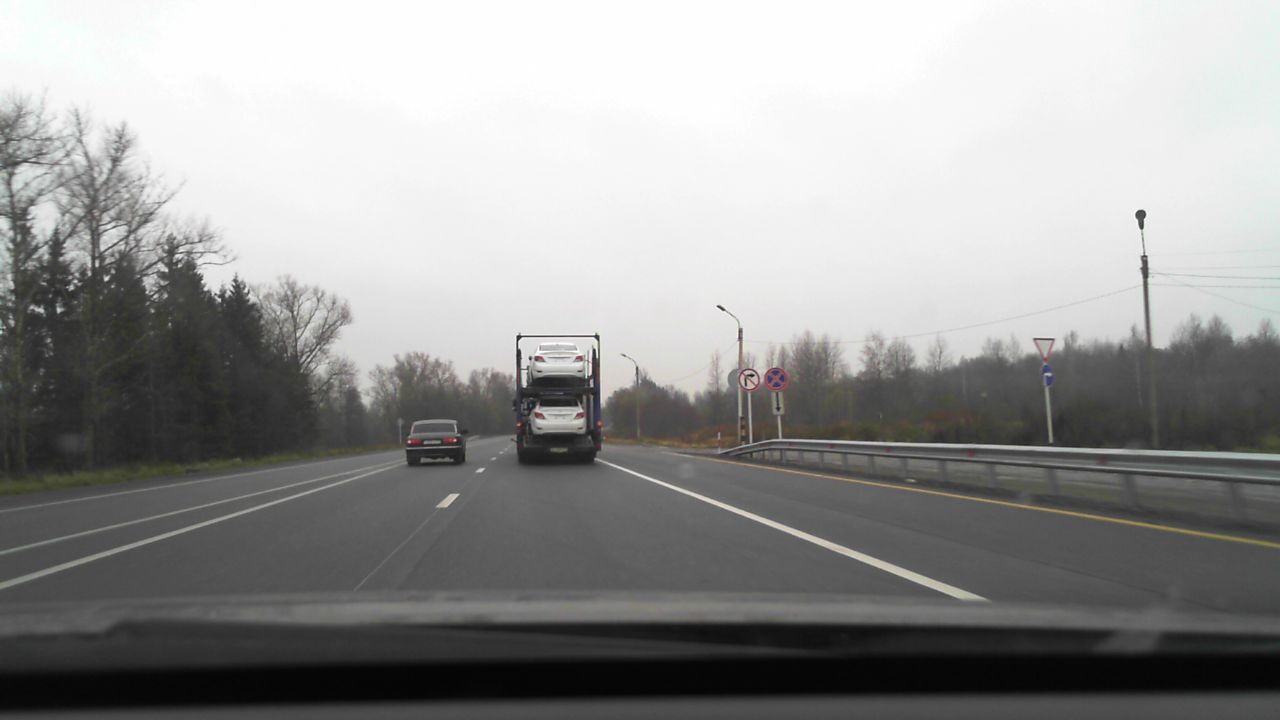No Parking: (763, 368, 788, 391)
